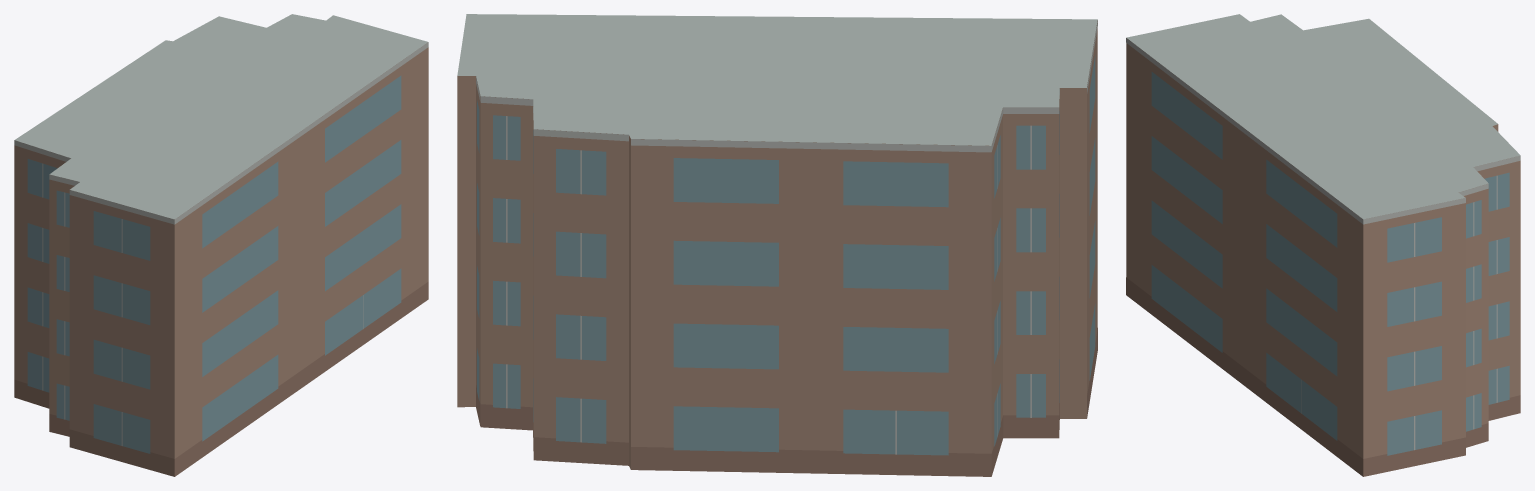
The model's file is survey-upis-32611576.glb.
3 views of the same model, side by side, from view 1: azimuth 30°, elevation 25°; view 2: azimuth 150°, elevation 25°; view 3: azimuth 270°, elevation 25° (orthographic). The views are drawn at different scales.
Visible parts, largest first — view 1: survey-upis-32611576.tmp; view 2: survey-upis-32611576.tmp; view 3: survey-upis-32611576.tmp.
Boxes of the visible parts, x1,y1,x2,y2 form: survey-upis-32611576.tmp: [14, 14, 428, 476]; survey-upis-32611576.tmp: [457, 14, 1097, 476]; survey-upis-32611576.tmp: [1126, 14, 1520, 476].
Size of the model in its own units: 20.87 by 12.2 by 16.95.
